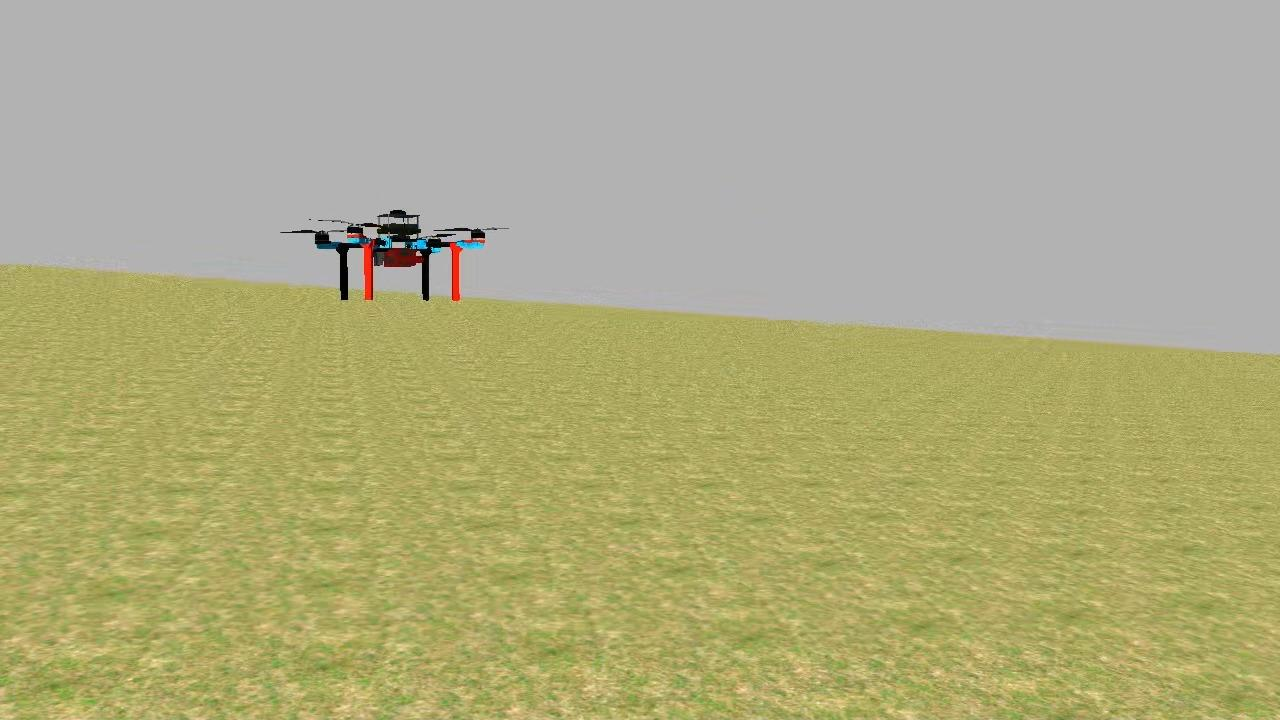UAV: (307, 195, 493, 308)
